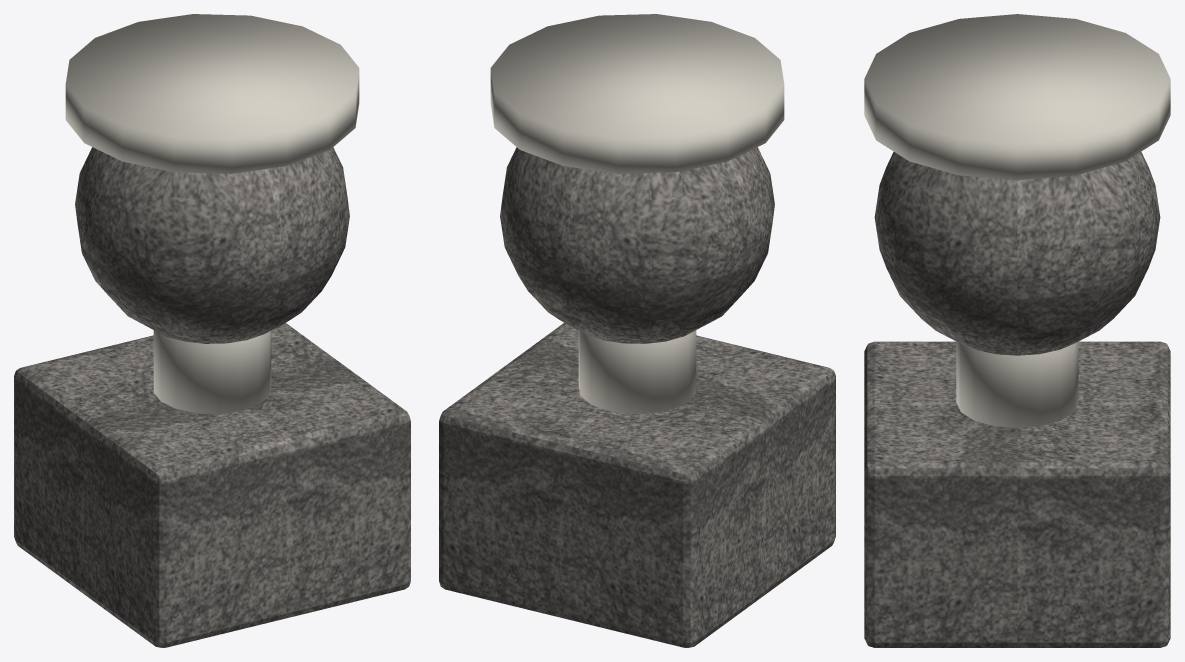
File: urn.glb
The picture shows the model from 3 angles, left to right: view 1: azimuth 30°, elevation 25°; view 2: azimuth 150°, elevation 25°; view 3: azimuth 270°, elevation 25°; orthographic projection. The views are drawn at different scales.
Visible parts, largest first — view 1: urn; view 2: urn; view 3: urn.
Boxes of the visible parts, x1,y1,x2,y2 form: urn: [14, 14, 410, 647]; urn: [439, 14, 835, 647]; urn: [864, 14, 1170, 647].
Size of the model in its own units: 0.6 by 1.1 by 0.6.
Materials: 2 (1 with a texture image).
